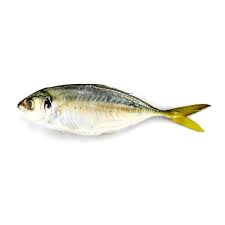Ikan Selar: (17, 84, 209, 136)
